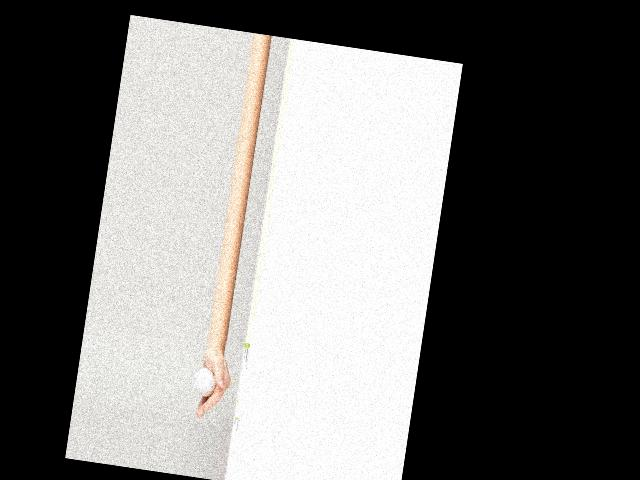egg: (194, 366, 218, 398)
